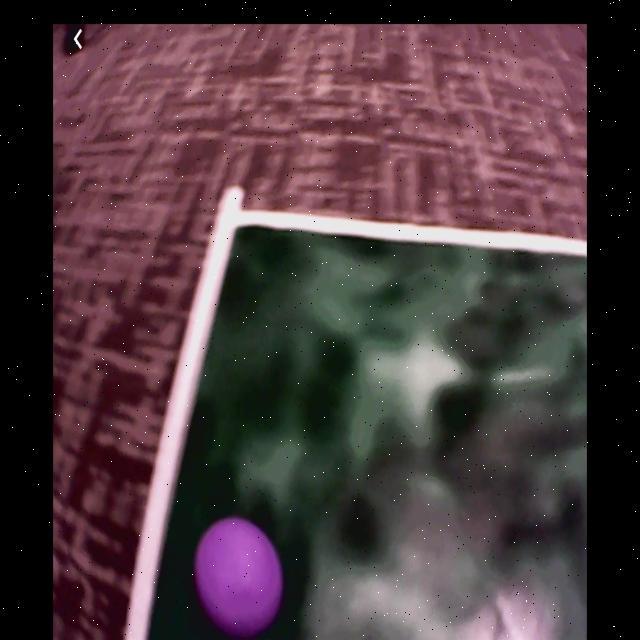ball: (198, 518, 284, 636)
